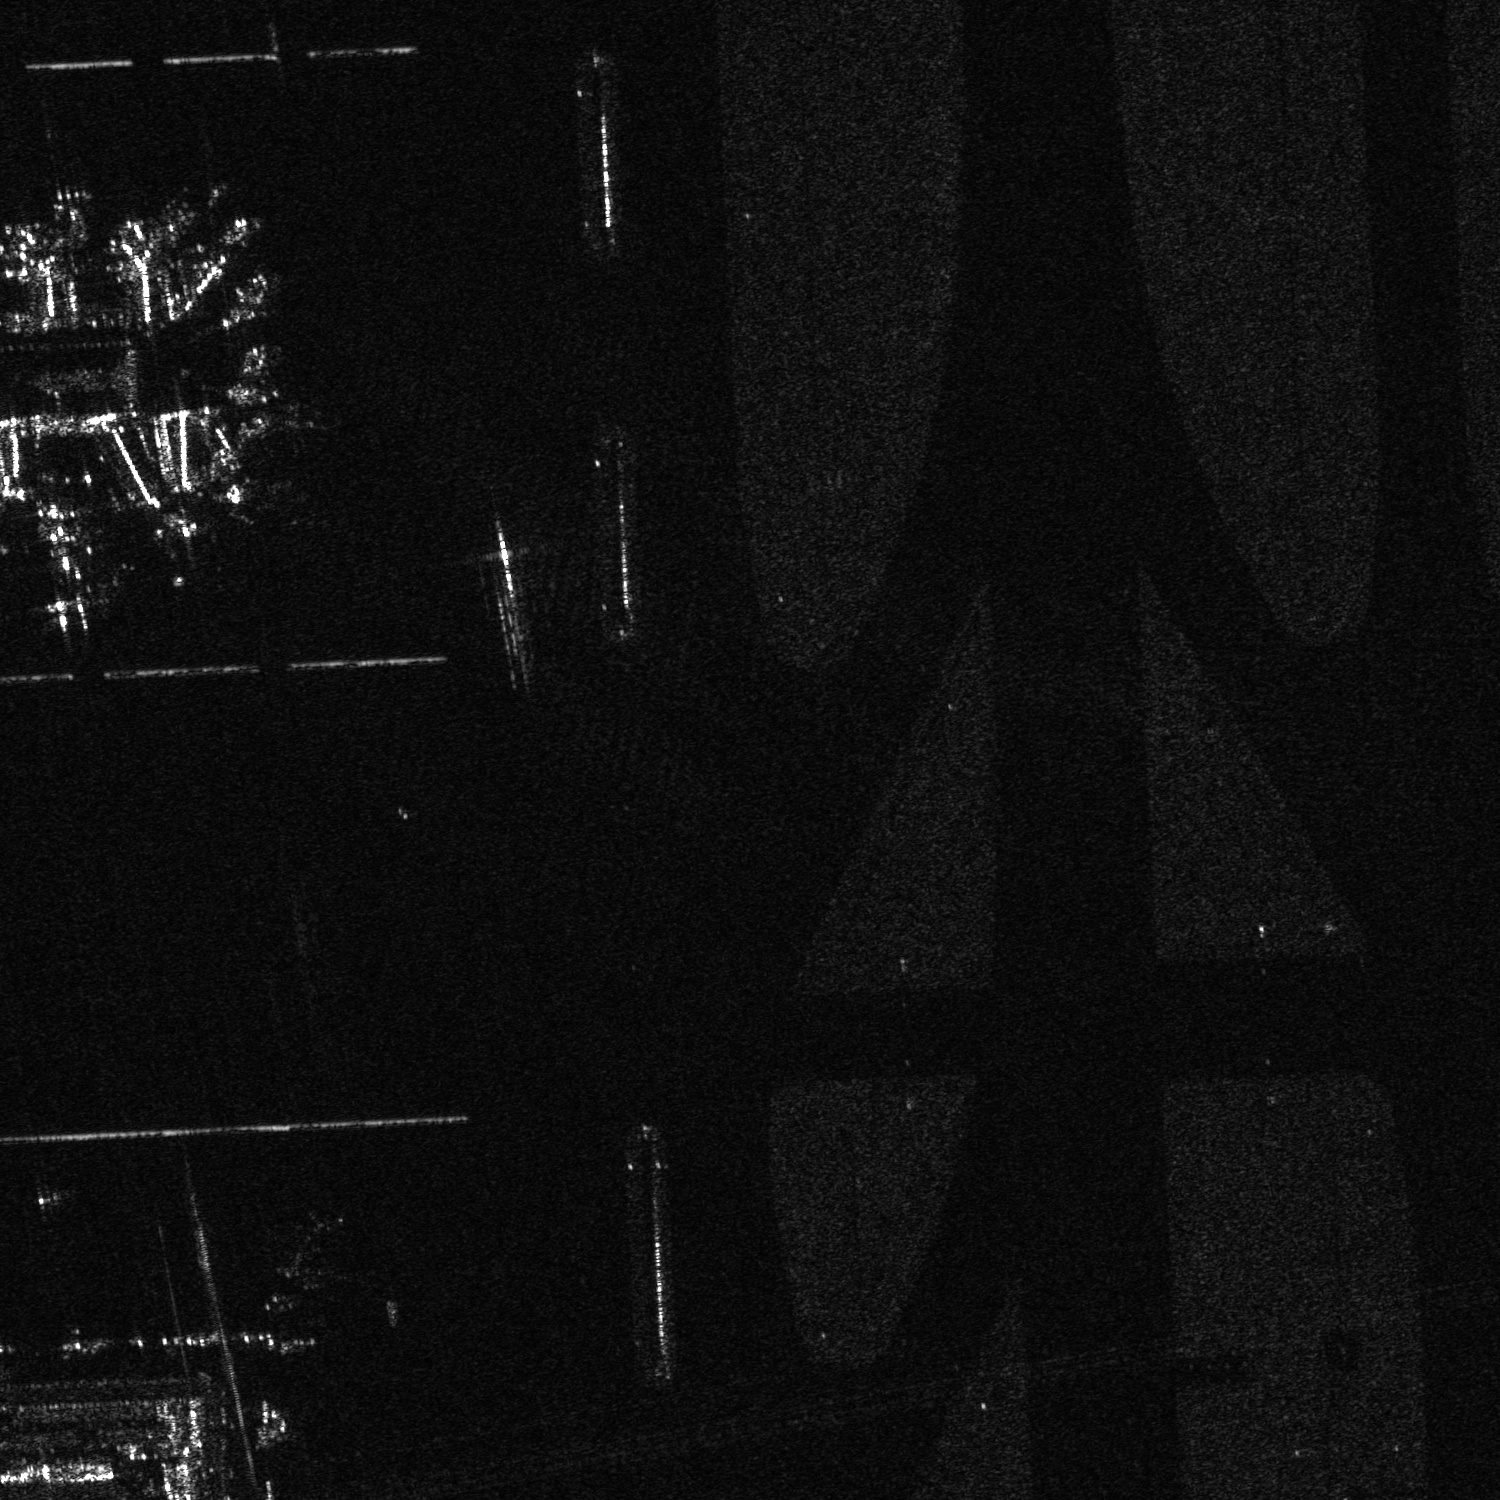A320/321: (245, 1207, 341, 1320)
Boeing737: (152, 514, 217, 571)
other: (21, 522, 113, 635)
